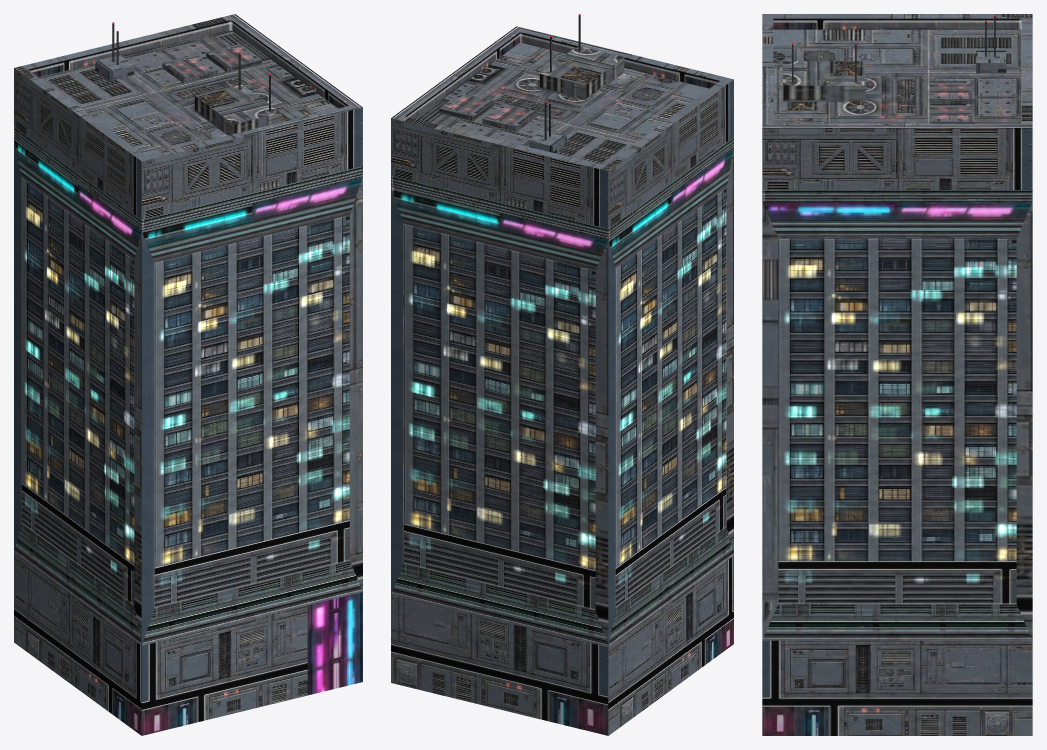
File: 2026-residential-building-7.glb
3 renders of one model, left to right at view 1: azimuth 30°, elevation 25°; view 2: azimuth 150°, elevation 25°; view 3: azimuth 270°, elevation 25°, orthographic. The views are drawn at different scales.
Visible parts, largest first — view 1: 2026-residential-building-7; view 2: 2026-residential-building-7; view 3: 2026-residential-building-7.
Boxes of the visible parts, x1,y1,x2,y2 form: 2026-residential-building-7: (14,14,362,735); 2026-residential-building-7: (391,14,733,735); 2026-residential-building-7: (762,14,1032,735).
Size of the model in its own units: 32.93 by 87.67 by 32.93.
Materials: 2 (1 with a texture image).
